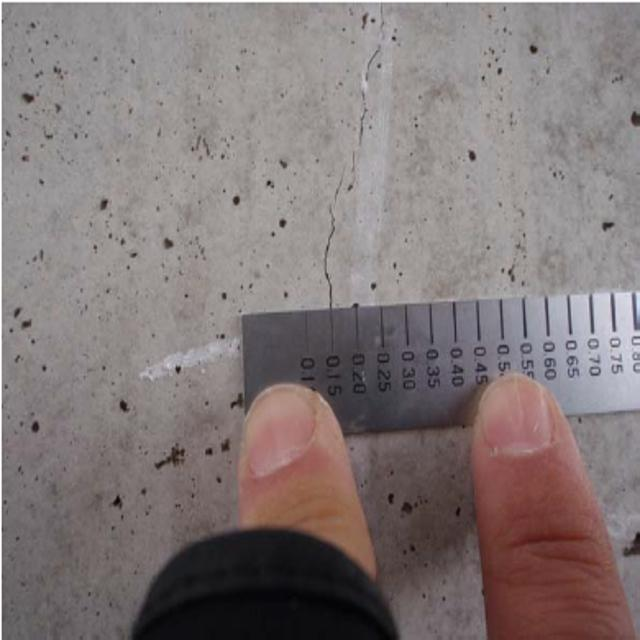crack: (324, 38, 383, 312)
